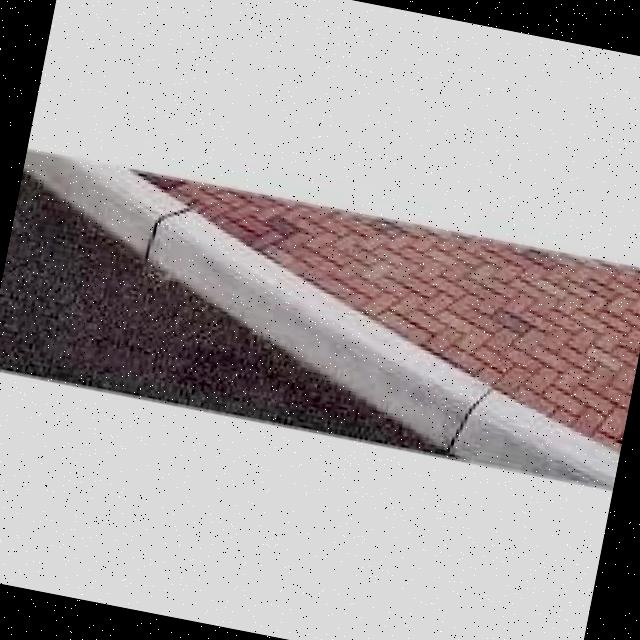curb: (208, 247, 488, 456), (9, 141, 264, 310), (457, 366, 633, 493)
